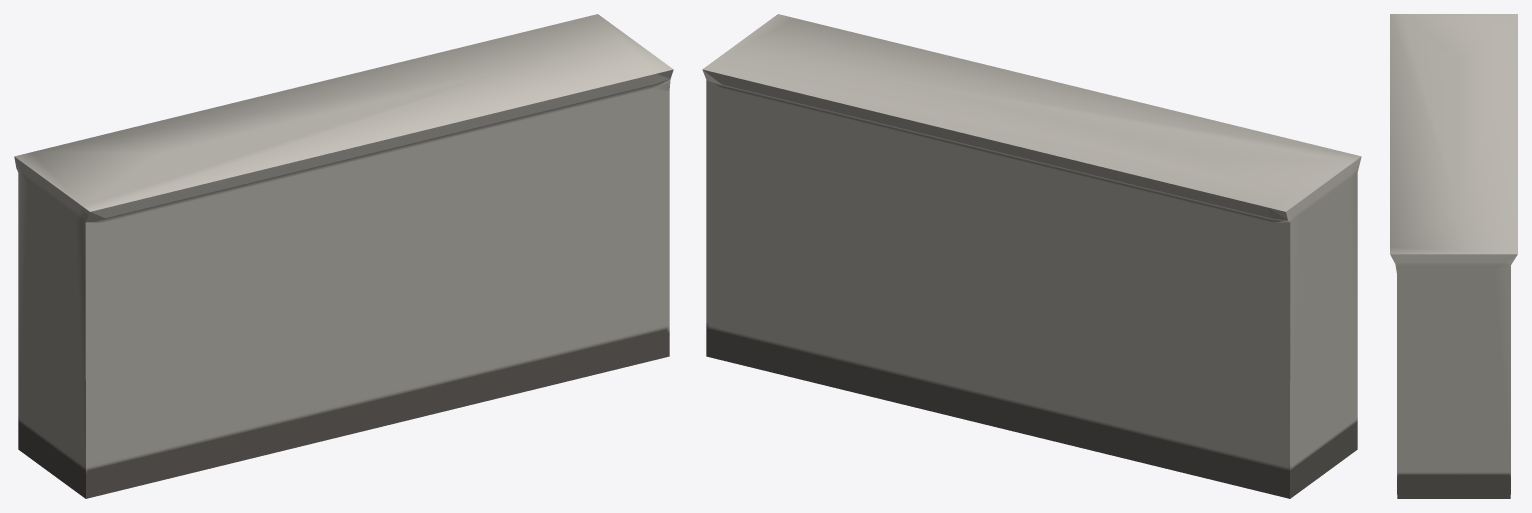
The model's file is lan_can_ha_long.mid.glb.
3 views of the same model, side by side, from view 1: azimuth 30°, elevation 25°; view 2: azimuth 150°, elevation 25°; view 3: azimuth 270°, elevation 25° (orthographic). The views are drawn at different scales.
Visible parts, largest first — view 1: drawing; view 2: drawing; view 3: drawing.
Boxes of the visible parts, x1,y1,x2,y2 form: drawing: (14,14,673,498); drawing: (702,14,1361,498); drawing: (1390,14,1517,498).
Bounding box in the file's own units: 2 × 0.95 × 0.45.
Materials: 1 (1 with a texture image).
